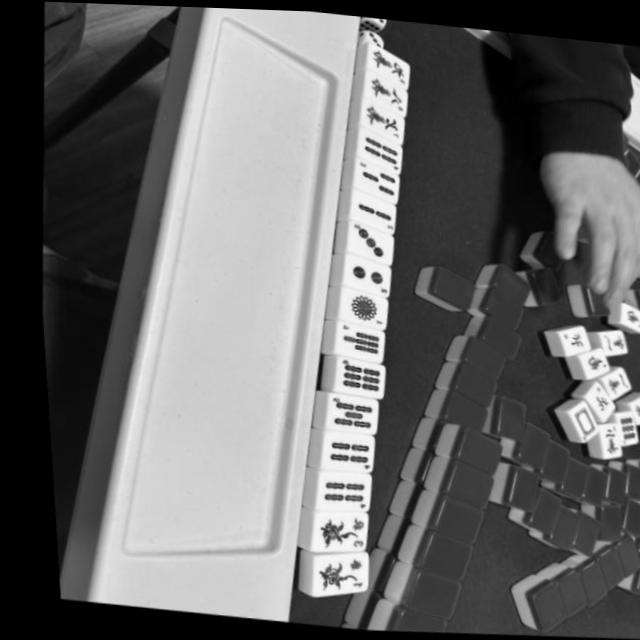bs1: (293, 547, 354, 599)
bs3: (297, 506, 356, 554)
sb2: (341, 194, 389, 232)
sb3: (344, 156, 394, 199)
sb4: (299, 465, 358, 513), (306, 427, 363, 474), (349, 132, 400, 175)
sb5: (311, 389, 367, 435)
sb6: (320, 353, 375, 400)
sb7: (323, 319, 376, 361)
sc7: (356, 104, 402, 143)
sc8: (357, 76, 405, 116)
sc9: (362, 45, 411, 89)
sd1: (329, 287, 379, 330)
sd2: (332, 254, 383, 297)
sd3: (337, 219, 388, 264)
